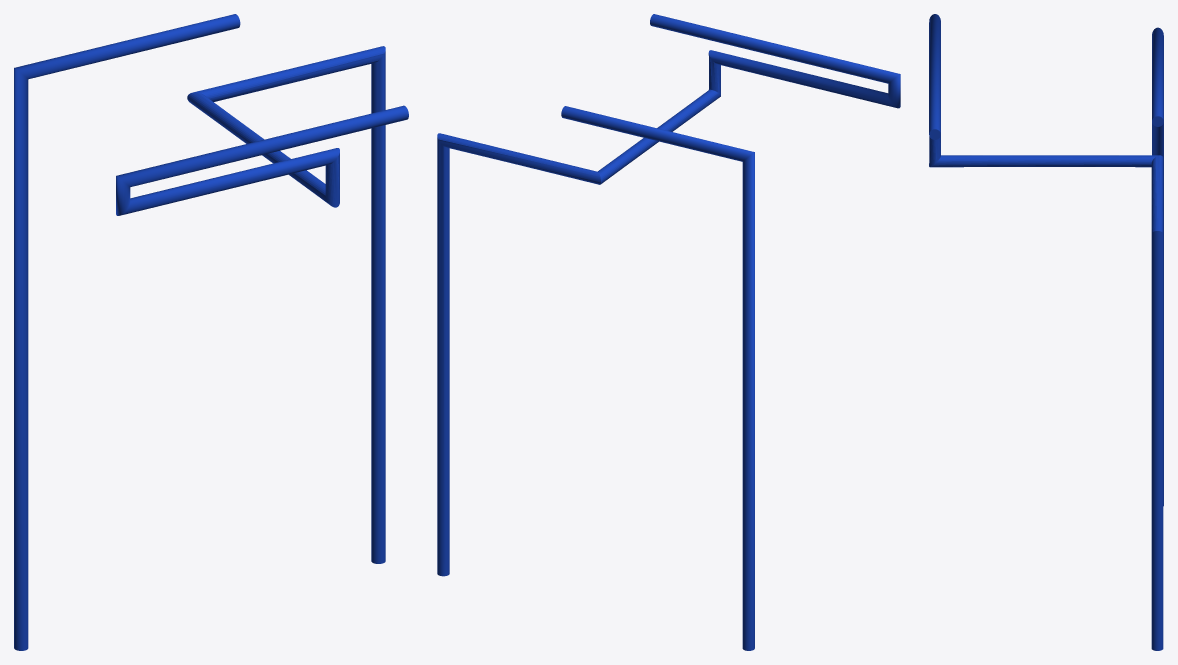
Rendered from lanxian4.obj.
3 views of the same model, side by side, from view 1: azimuth 30°, elevation 25°; view 2: azimuth 150°, elevation 25°; view 3: azimuth 270°, elevation 25° (orthographic). The views are drawn at different scales.
Visible parts, largest first — view 1: Line1789790254; view 2: Line1789790254; view 3: Line1789790254.
Boxes of the visible parts, <box> form: Line1789790254: <box>14,14,408,650</box>; Line1789790254: <box>437,14,900,650</box>; Line1789790254: <box>929,14,1163,650</box>.
Size of the model in its own units: 48.34 by 66.44 by 29.71.
